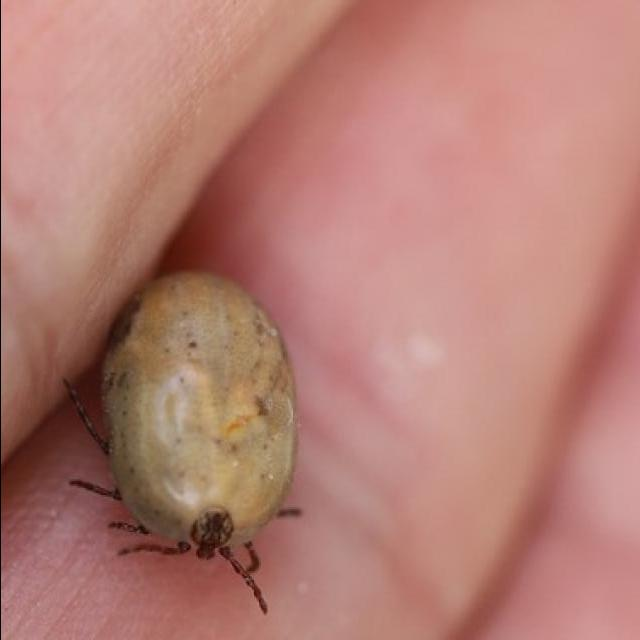Dermacentor Reticulatus-F-Fed: (61, 270, 302, 615)
